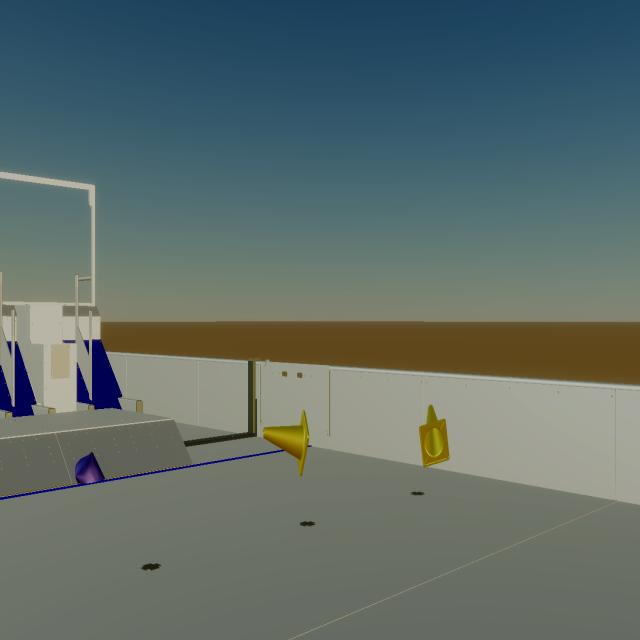frc_cone: (263, 410, 310, 476), (419, 404, 450, 468)
frc_cube: (75, 452, 105, 484)
